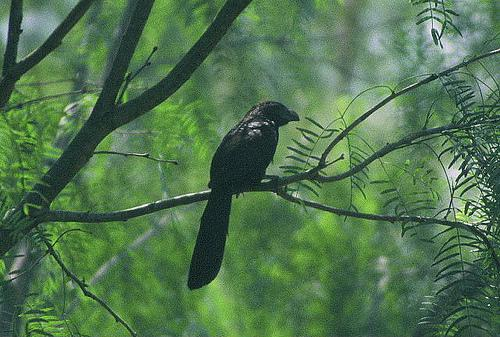004.Groove_billed_Ani: (184, 99, 301, 290)
